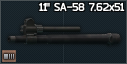SA-58 7.62x51 11 inch barrel: (0, 0, 127, 64)
